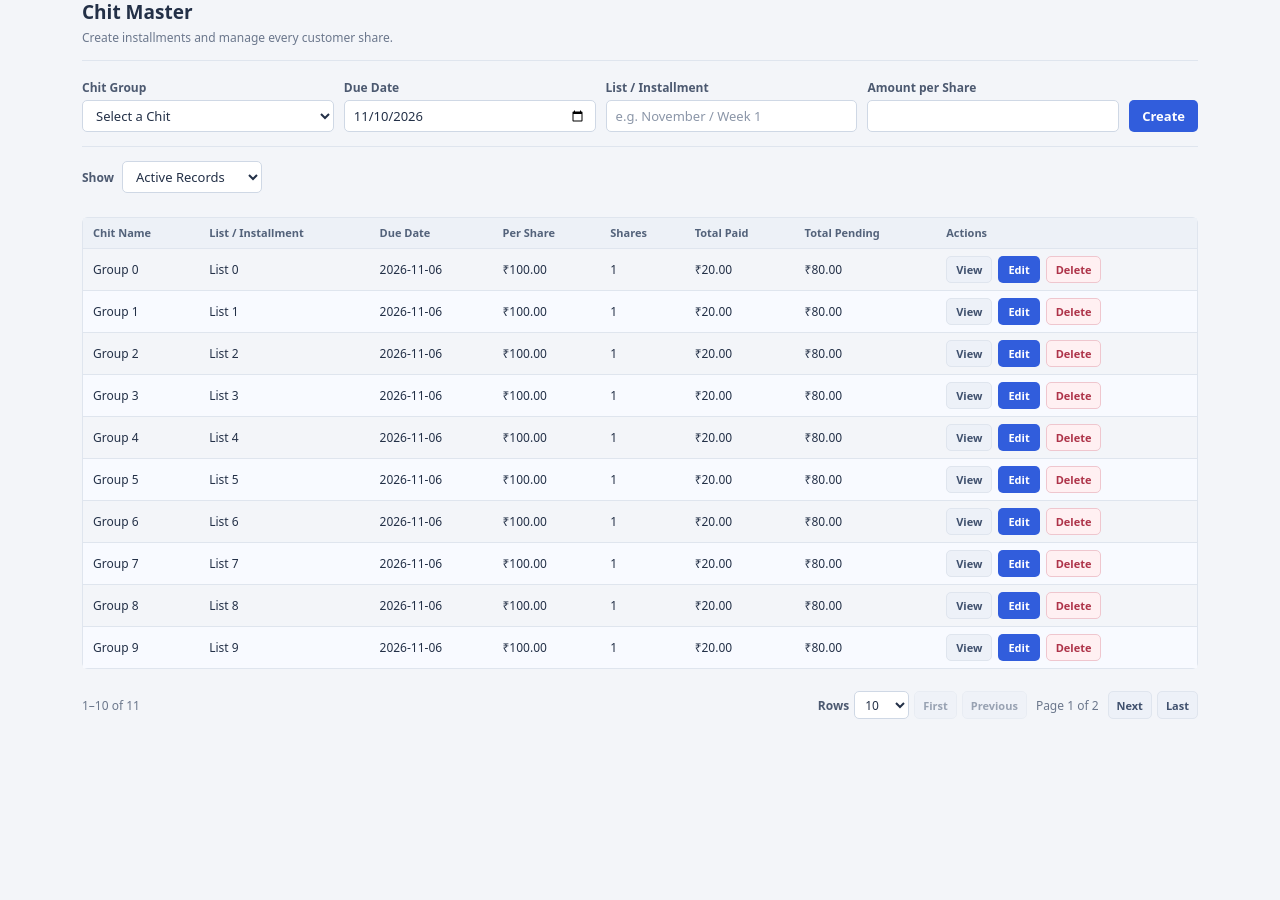
Scenario: Edit on page two saves the selected record ID
Expected: the text "Group 0" is shown, [83,249,199,291]
Step 1. Click the button with aria-label "Chit Master: next page" → [1130, 705], box [1108,691,1152,719]
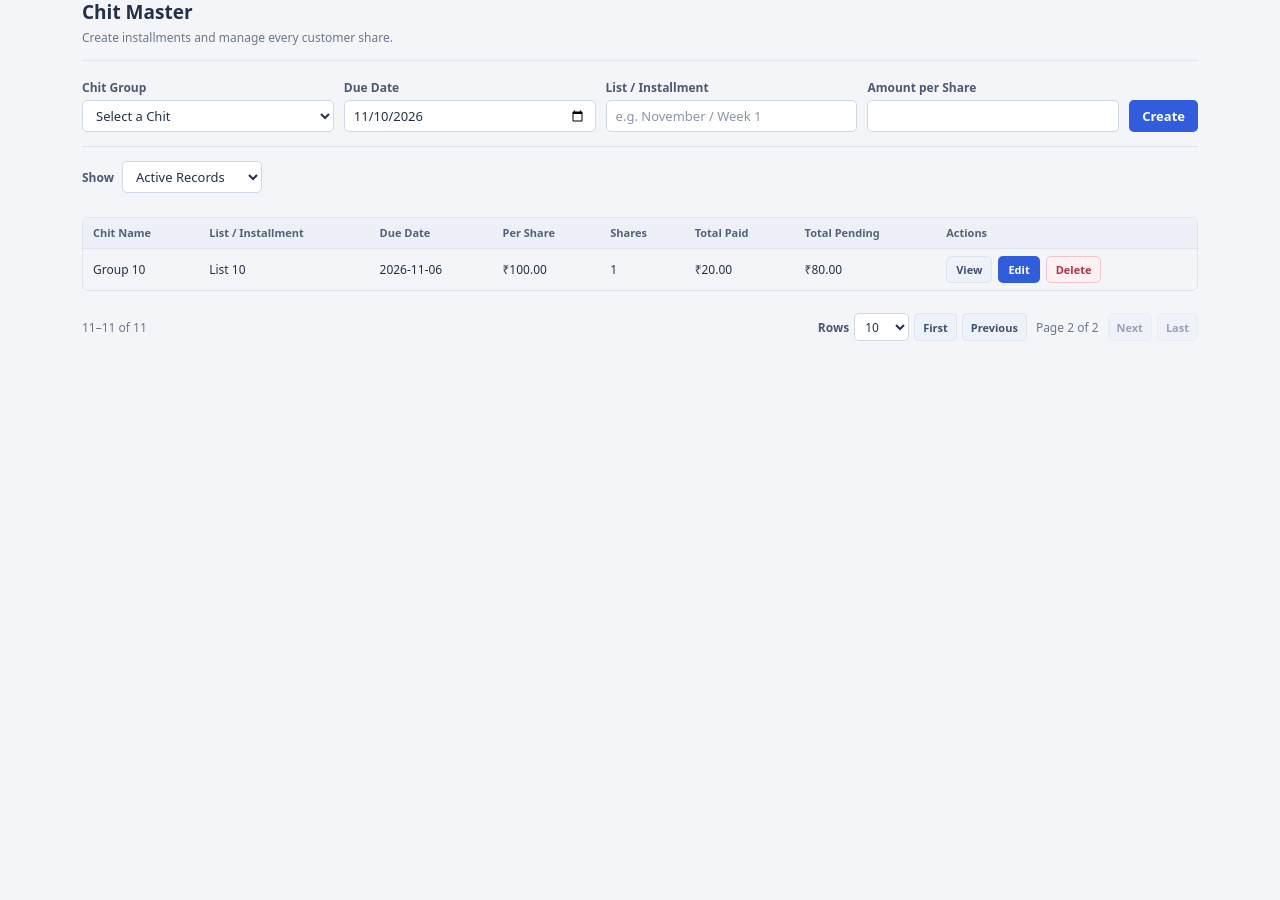
Step 2. Click the button "Edit" → [1019, 270], box [998,256,1040,283]
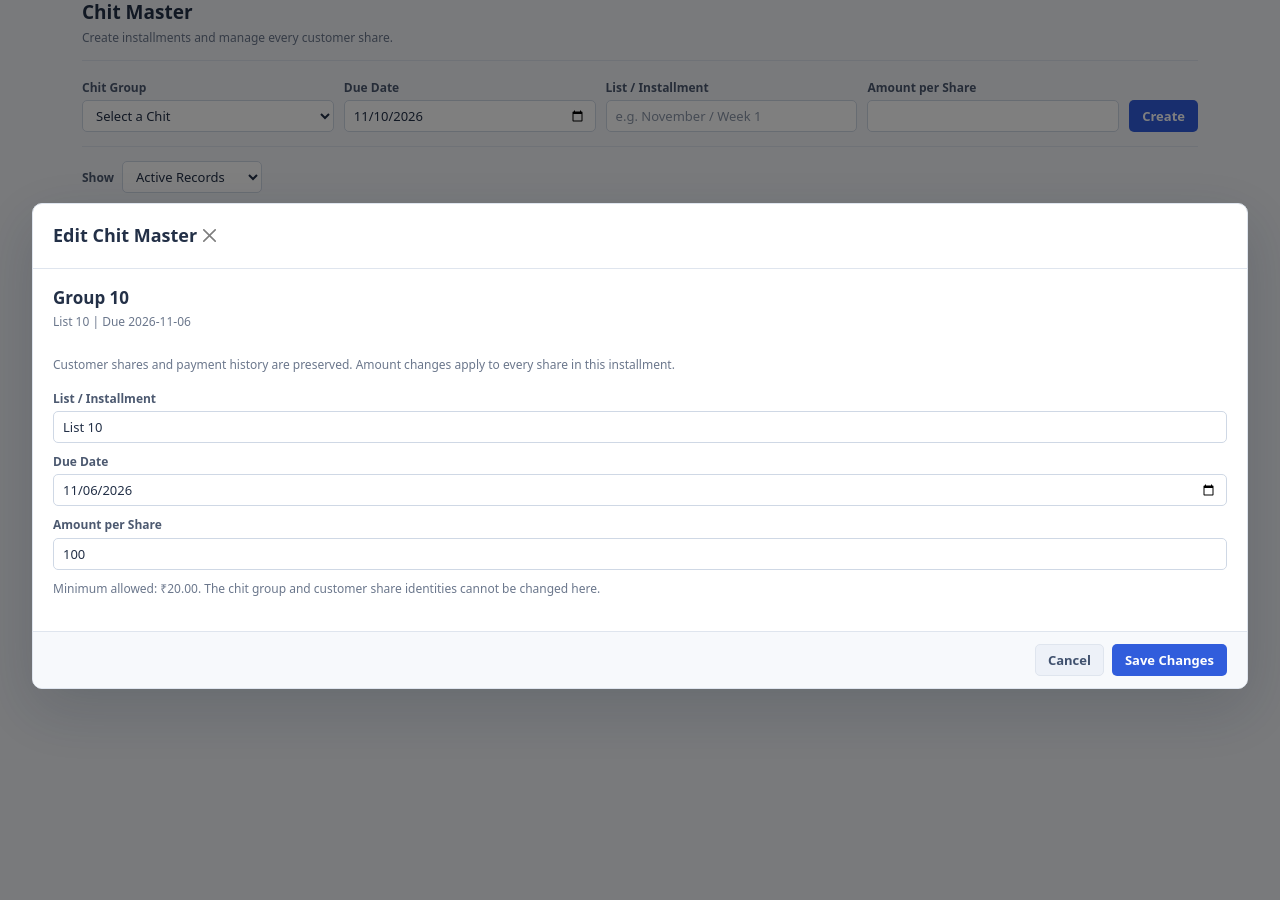
Step 3. Replace the text in the field labelled "List / Installment" with "Revised list" → [640, 427], box [53,411,1227,443]
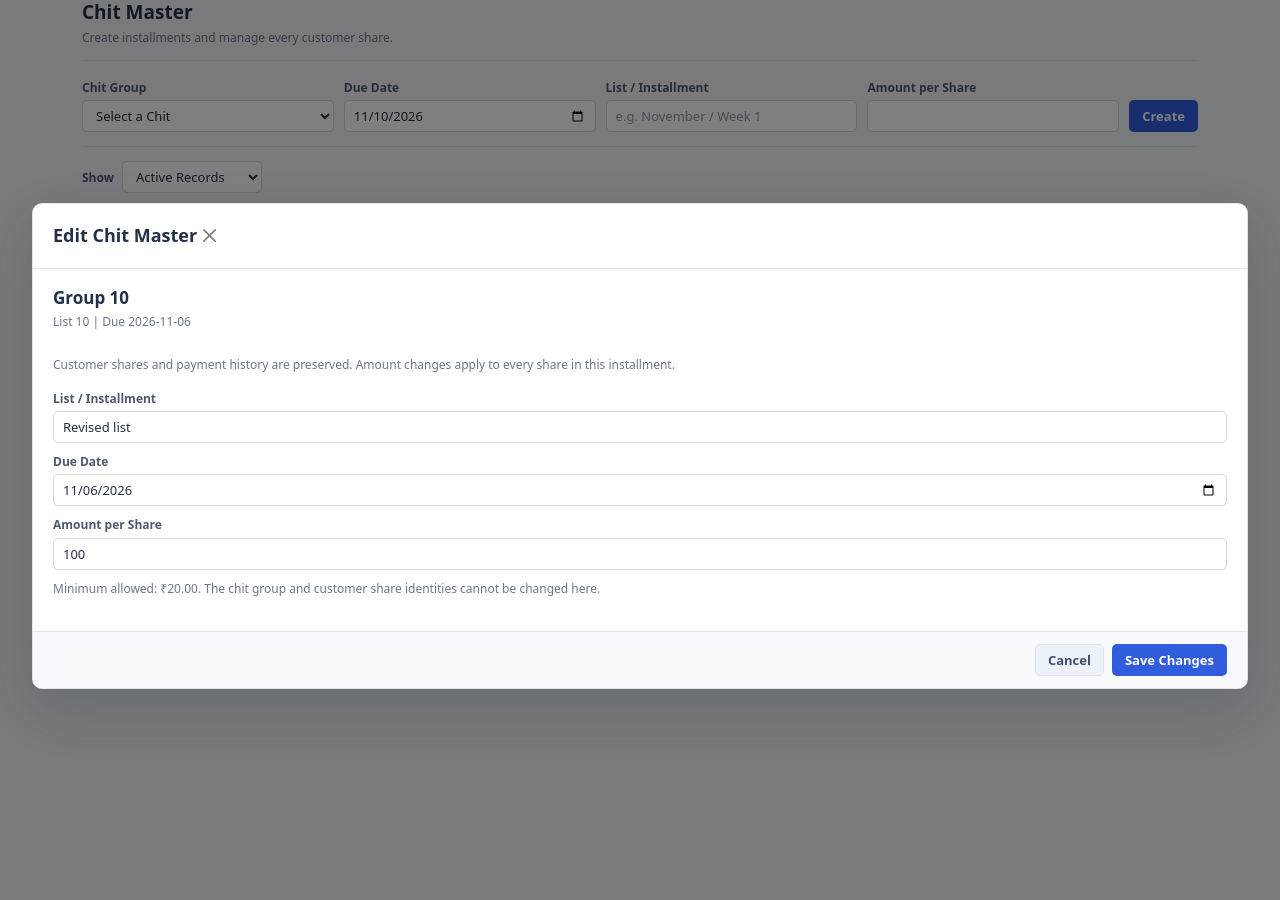
Step 4. Replace the text in the number field labelled "Amount per Share" with "150" → [640, 554], box [53,538,1227,570]
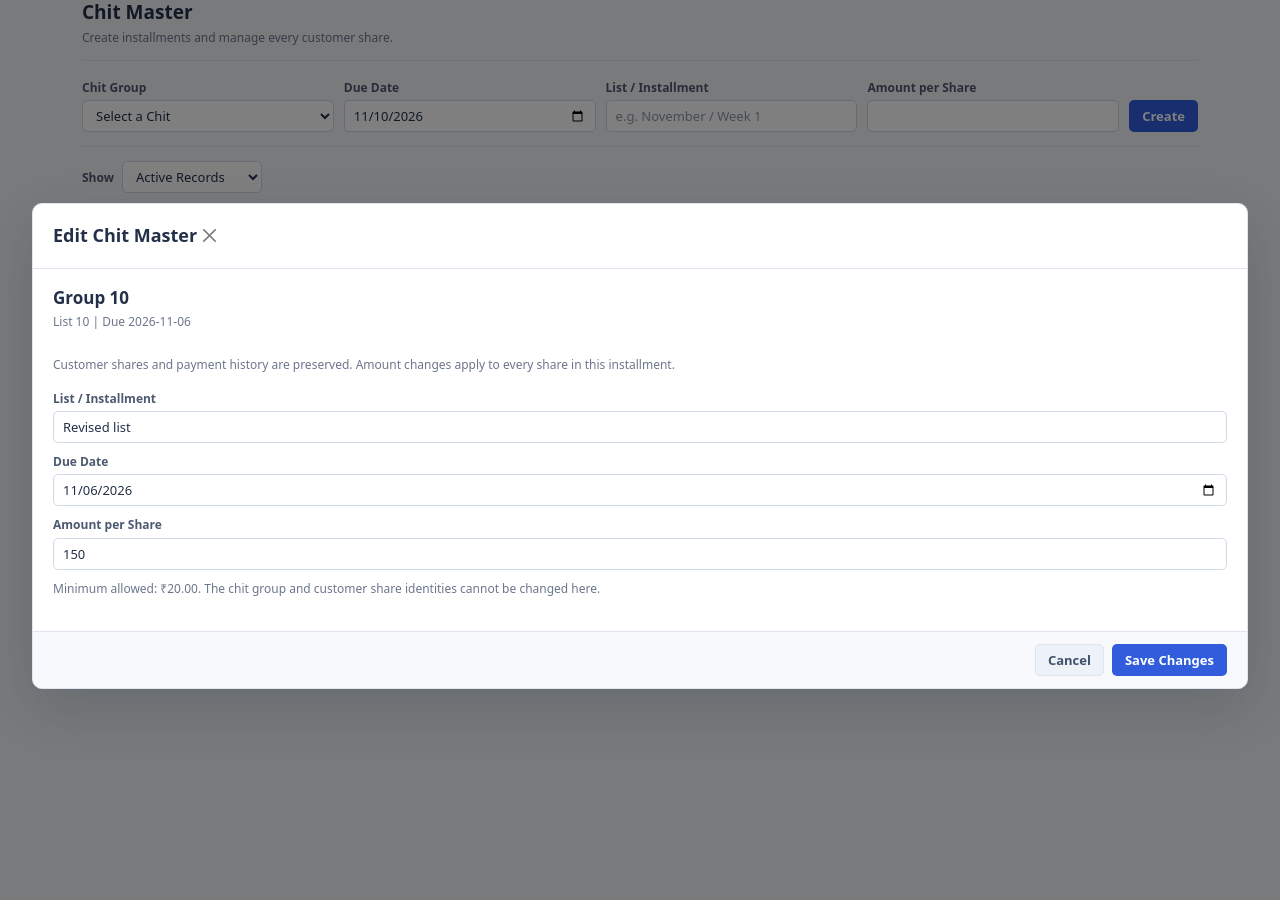
Step 5. Click the button "Save Changes" → [1169, 660], box [1112,644,1227,676]
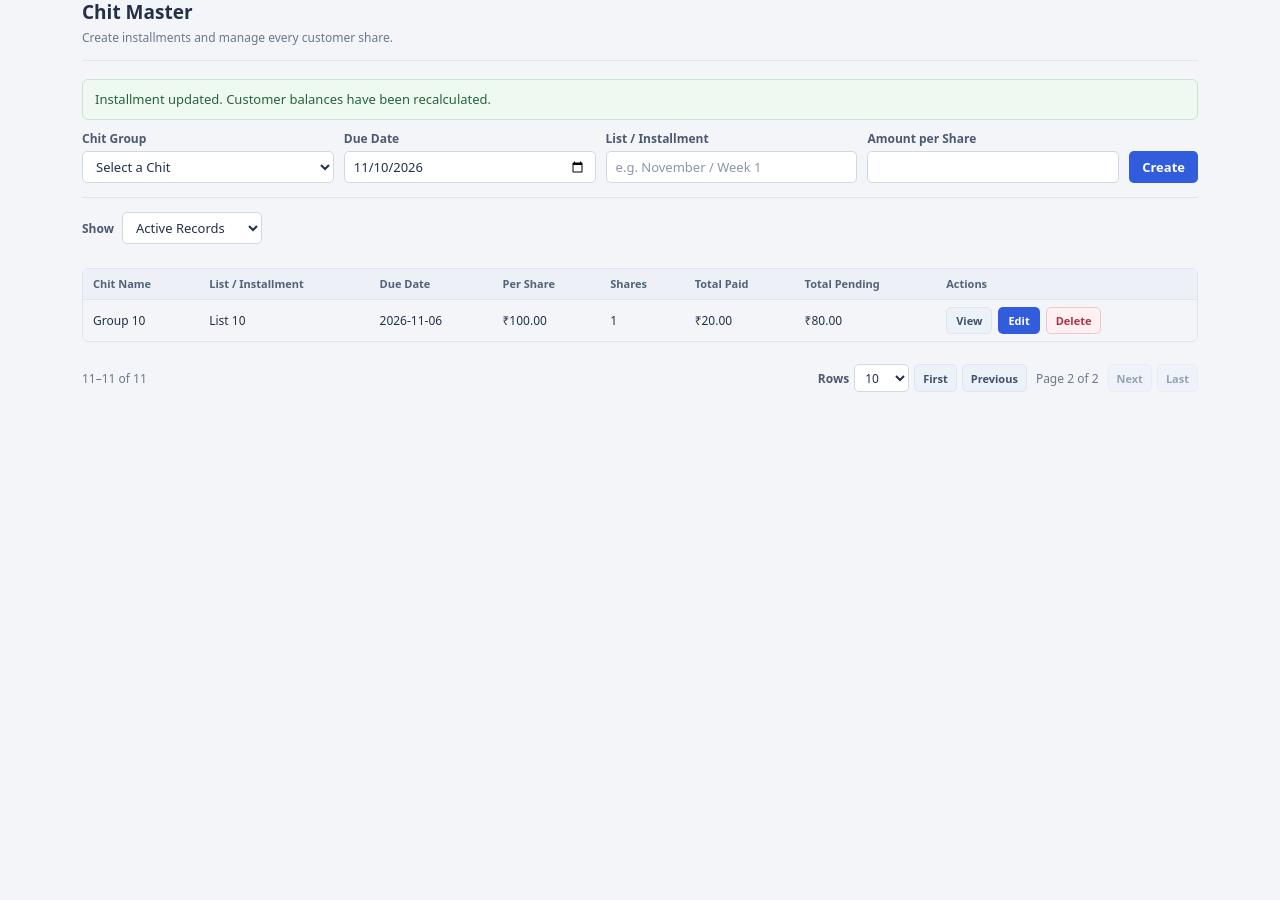
Result: the dialog is gone
